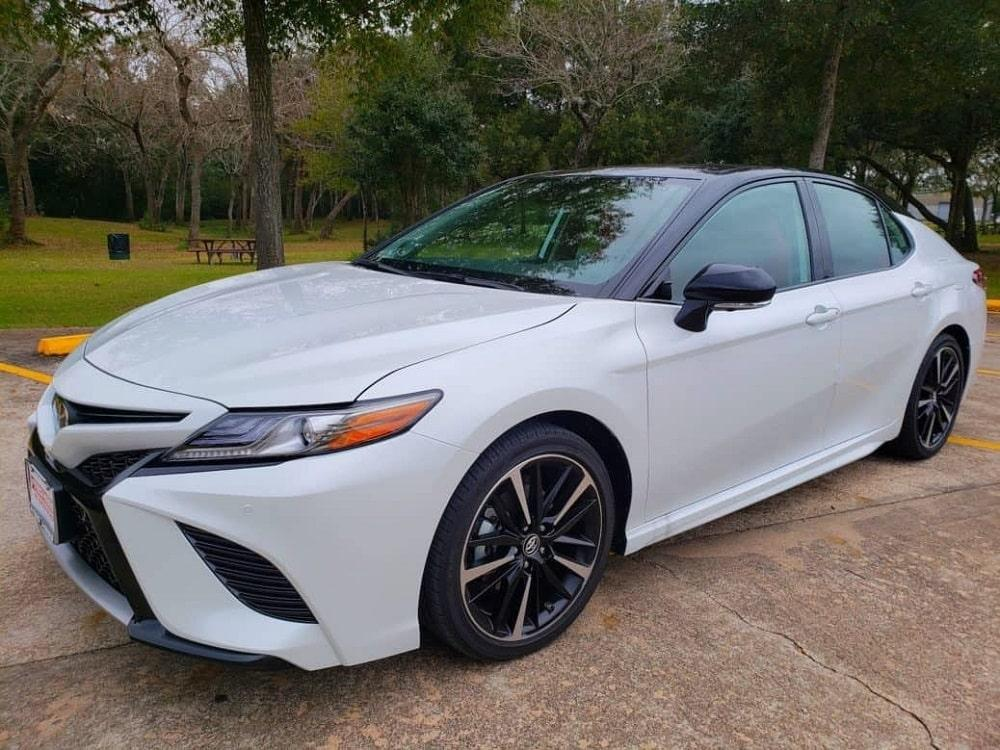car: (3, 151, 993, 676)
